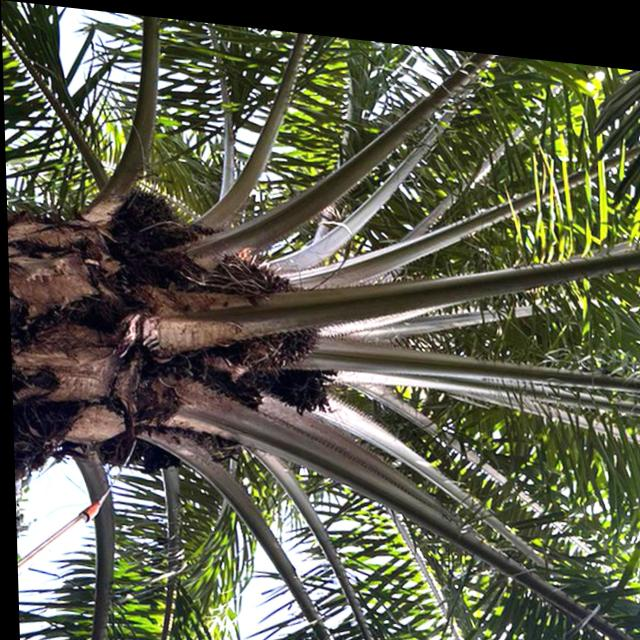ripe: (206, 238, 329, 379)
